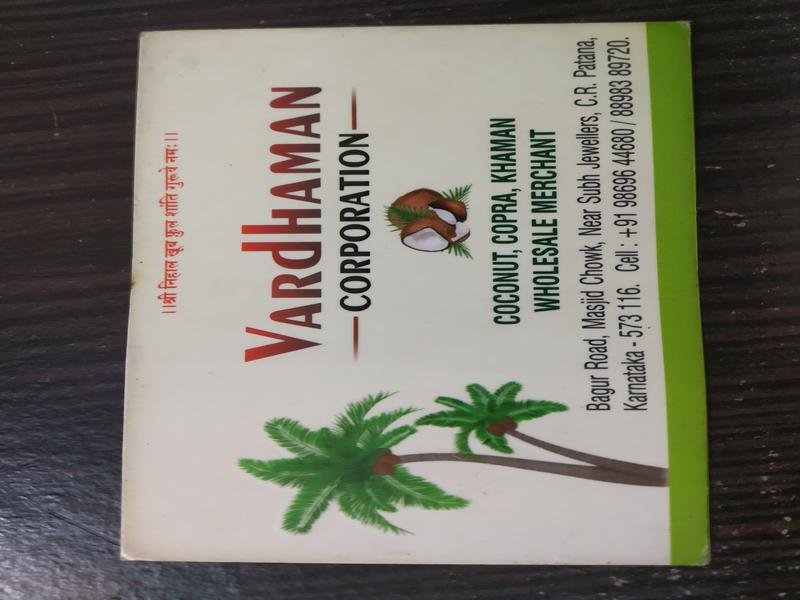card: (117, 21, 709, 566)
